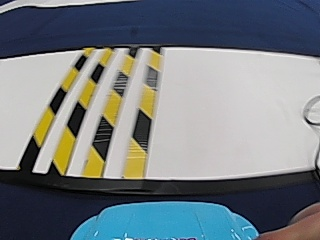bump: (25, 53, 166, 170)
